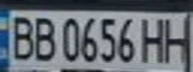0: (57, 14, 81, 63)
5: (96, 15, 121, 64)
6: (115, 15, 142, 64), (78, 15, 100, 63)
B: (3, 12, 39, 62), (30, 12, 60, 62)
H: (136, 15, 172, 64), (160, 14, 193, 65)
